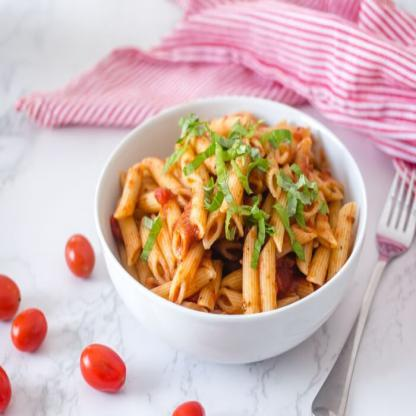pasta: (111, 112, 356, 314)
tomato: (81, 344, 125, 392), (12, 309, 47, 351), (66, 234, 95, 277), (0, 275, 21, 322), (0, 366, 12, 413), (173, 401, 206, 415)
